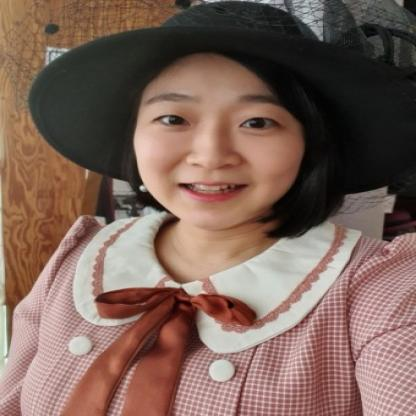hat: (23, 2, 411, 196)
